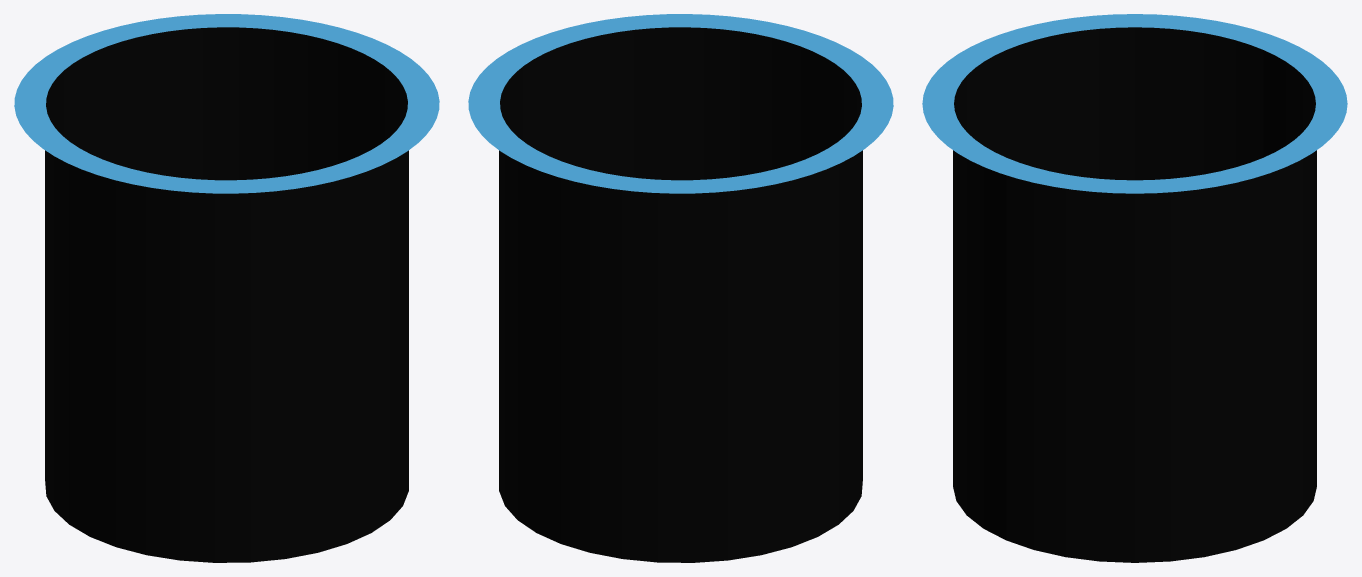
File: Hole.glb
3 renders of one model, left to right at view 1: azimuth 30°, elevation 25°; view 2: azimuth 150°, elevation 25°; view 3: azimuth 270°, elevation 25°, orthographic.
Visible parts, largest first — view 1: Hole, Border; view 2: Hole, Border; view 3: Hole, Border.
Boxes of the visible parts, box(x1,y1,x2,y2) form: Hole: box(45, 27, 408, 562); Border: box(14, 14, 439, 193); Hole: box(499, 27, 862, 562); Border: box(468, 14, 893, 193); Hole: box(953, 27, 1316, 562); Border: box(922, 14, 1347, 193).
Size of the model in its own units: 2.33 by 2.31 by 2.33.
